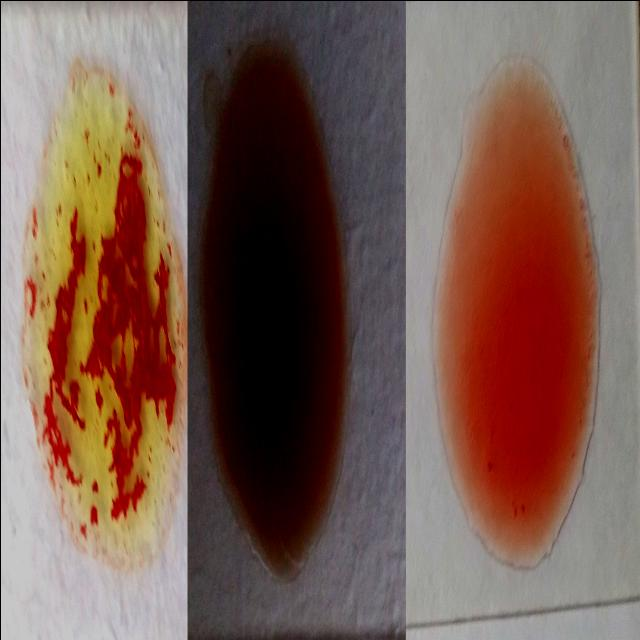B: (27, 84, 176, 566)
